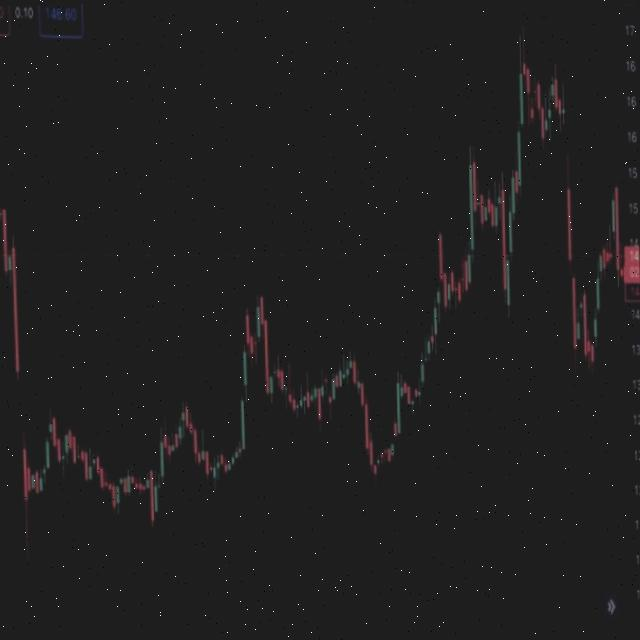Gap Down: (7, 245, 31, 515), (560, 102, 576, 349)
Gap Up: (588, 276, 602, 364), (516, 71, 526, 188), (389, 419, 398, 459)
